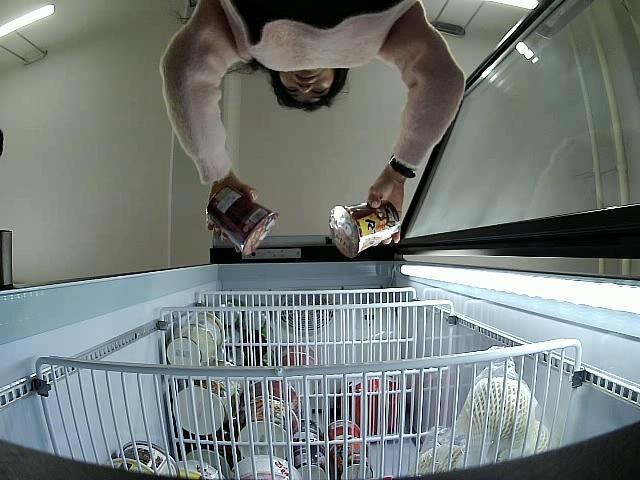06_nuguri_S: (210, 185, 276, 256), (332, 196, 399, 256)
